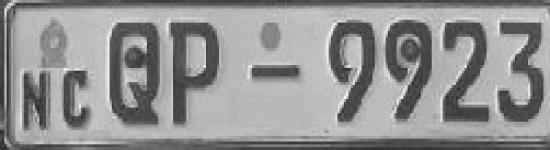-: (247, 63, 303, 83)
2: (439, 16, 492, 124)
3: (496, 12, 547, 128)
9: (319, 13, 379, 128), (383, 12, 436, 132)
C: (60, 66, 97, 131)
N: (18, 66, 53, 131)
P: (166, 17, 222, 128)
Q: (105, 19, 164, 127)
